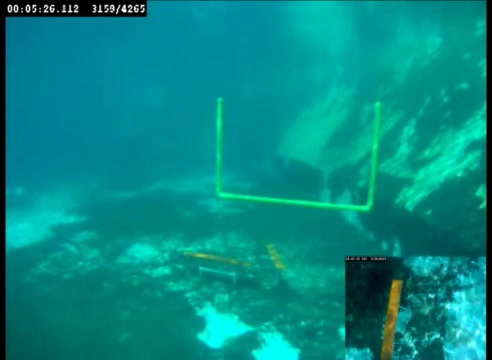channel: (210, 97, 382, 214)
